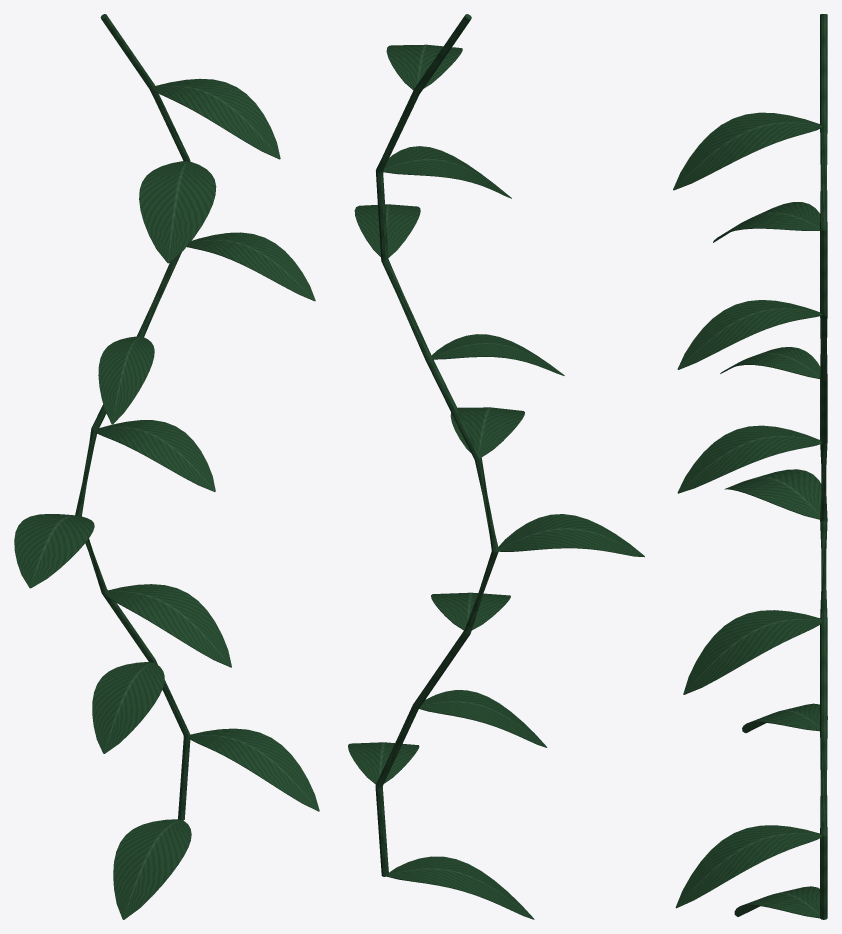
The model's file is flora_ivy_01.dae.
3 renders of one model, left to right at view 1: azimuth 30°, elevation 25°; view 2: azimuth 150°, elevation 25°; view 3: azimuth 270°, elevation 25°, orthographic. The views are drawn at different scales.
Parts seen in each view (by area): view 1: leaf; view 2: leaf; view 3: leaf.
Part boxes in pixels (bbox=[...]): leaf: bbox=[14, 14, 319, 919]; leaf: bbox=[348, 14, 644, 919]; leaf: bbox=[673, 14, 827, 919].
Size of the model in its own units: 48.11 by 22.74 by 148.
